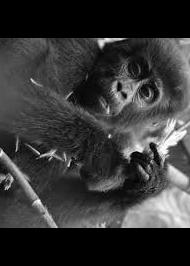goriile_montagne: (0, 38, 190, 228)
